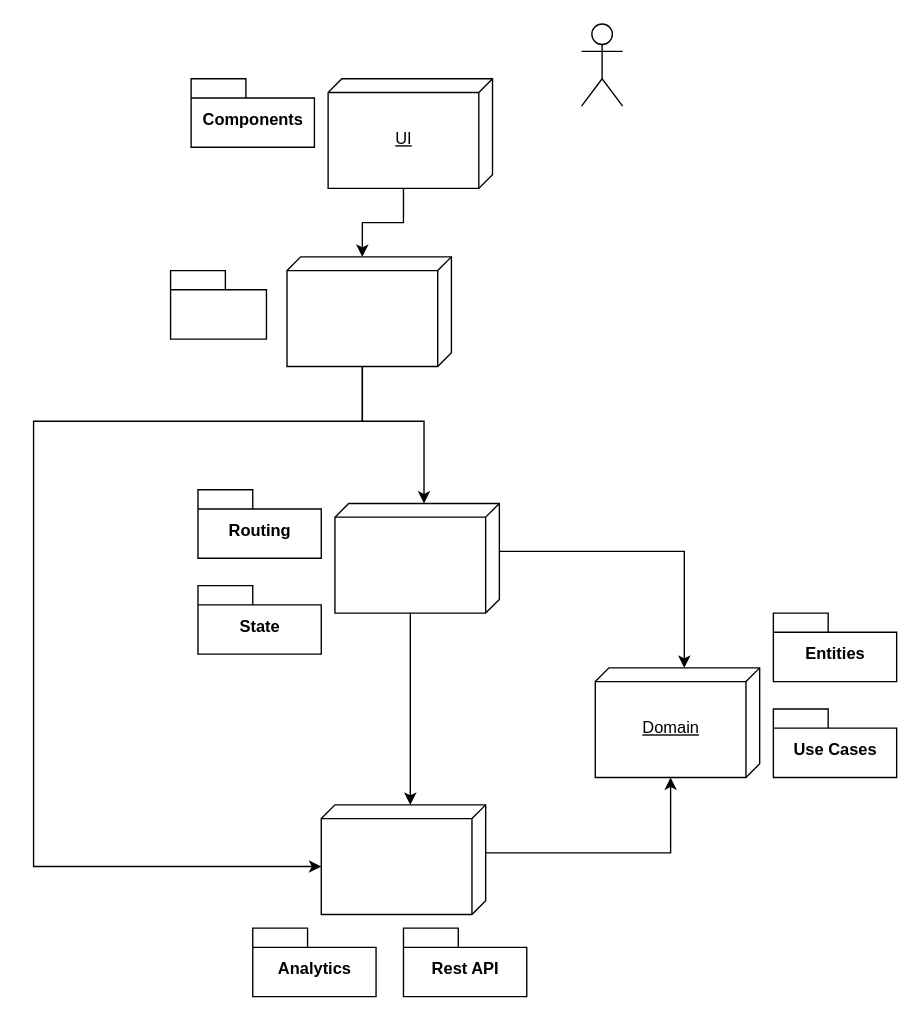
Some shapes in this 921 by 1021 pixel diagram are drawn without their labels. The centre of each missing label's shape, as x and y in pixels:
"Actor" belongs at (x=601, y=64).
"Application" belongs at (x=416, y=557).
"Hooks" belongs at (x=217, y=304).
"Infrastructure" belongs at (x=403, y=859).
"Presentation" belongs at (x=368, y=311).
